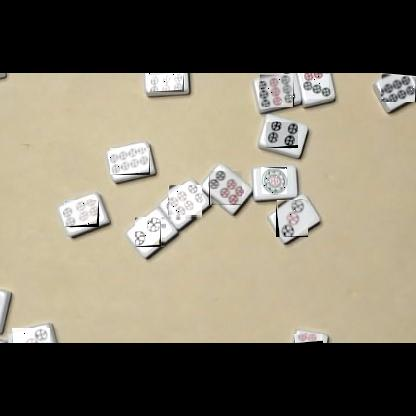1p: (261, 167, 287, 194)
2p: (136, 217, 166, 247)
3p: (276, 200, 308, 237), (12, 328, 50, 343)
4p: (266, 122, 298, 148)
6p: (168, 186, 202, 220), (209, 171, 242, 205), (64, 200, 99, 227)
7p: (301, 73, 329, 99), (294, 334, 323, 343)
8p: (110, 148, 150, 175), (381, 73, 416, 102)
9p: (259, 74, 294, 107), (148, 73, 184, 92)
